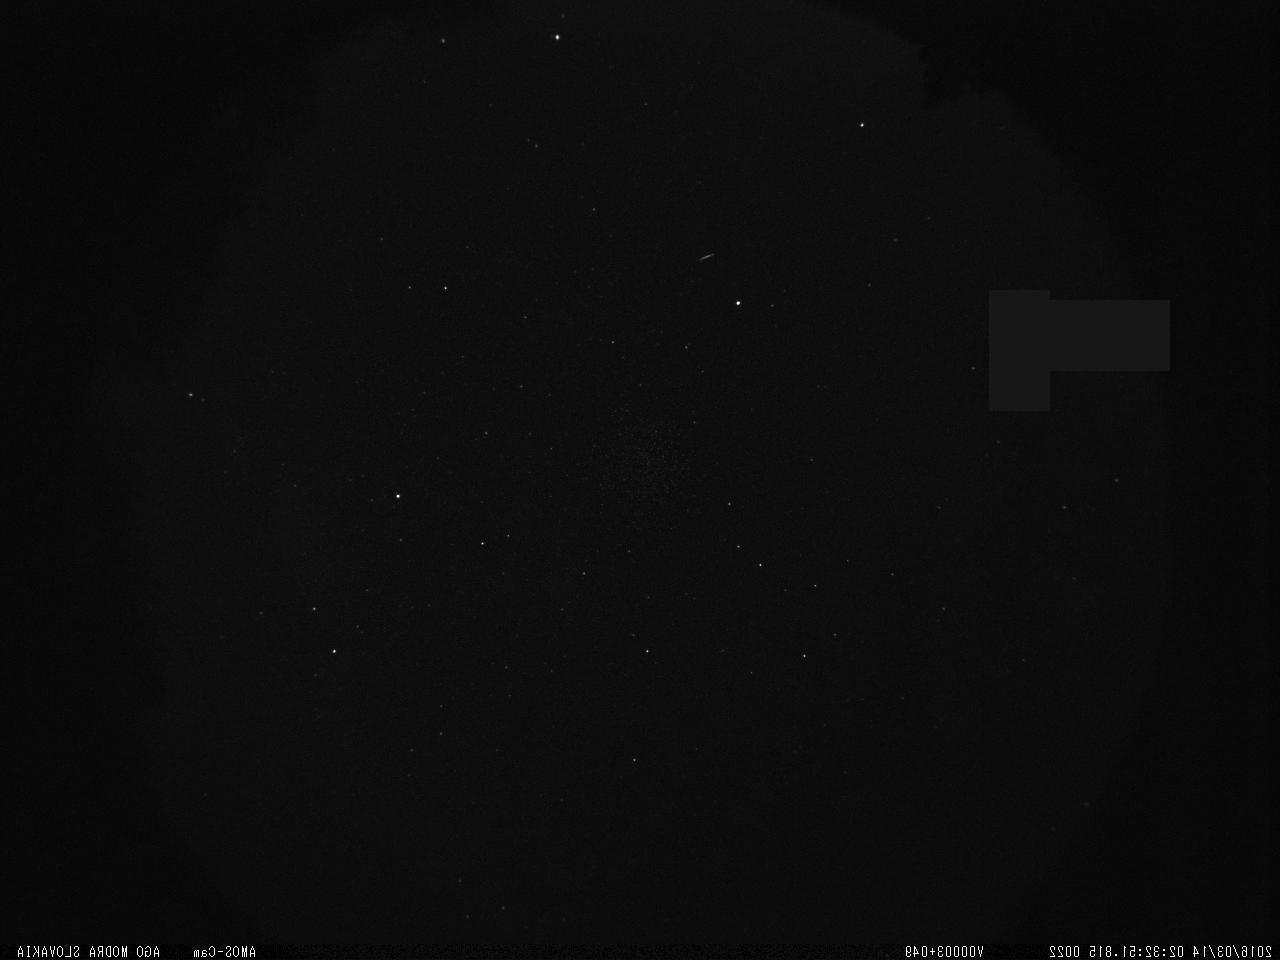meteor: (688, 246, 721, 271)
